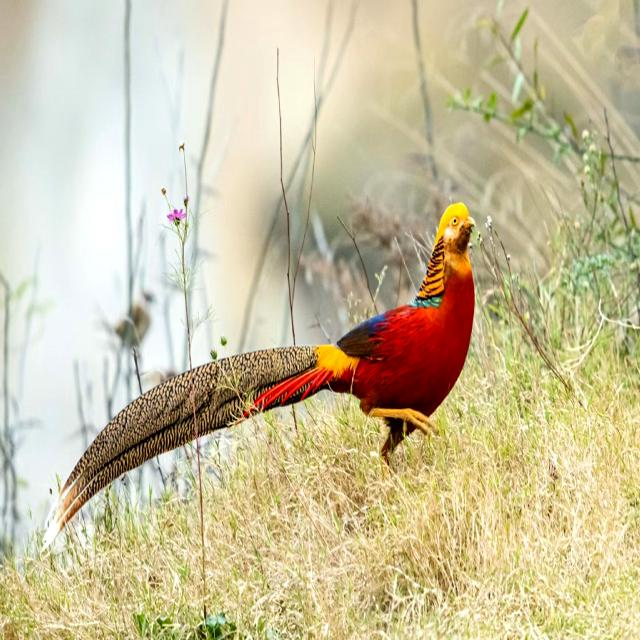Chrysolophus pictus feather: (65, 347, 318, 518)
